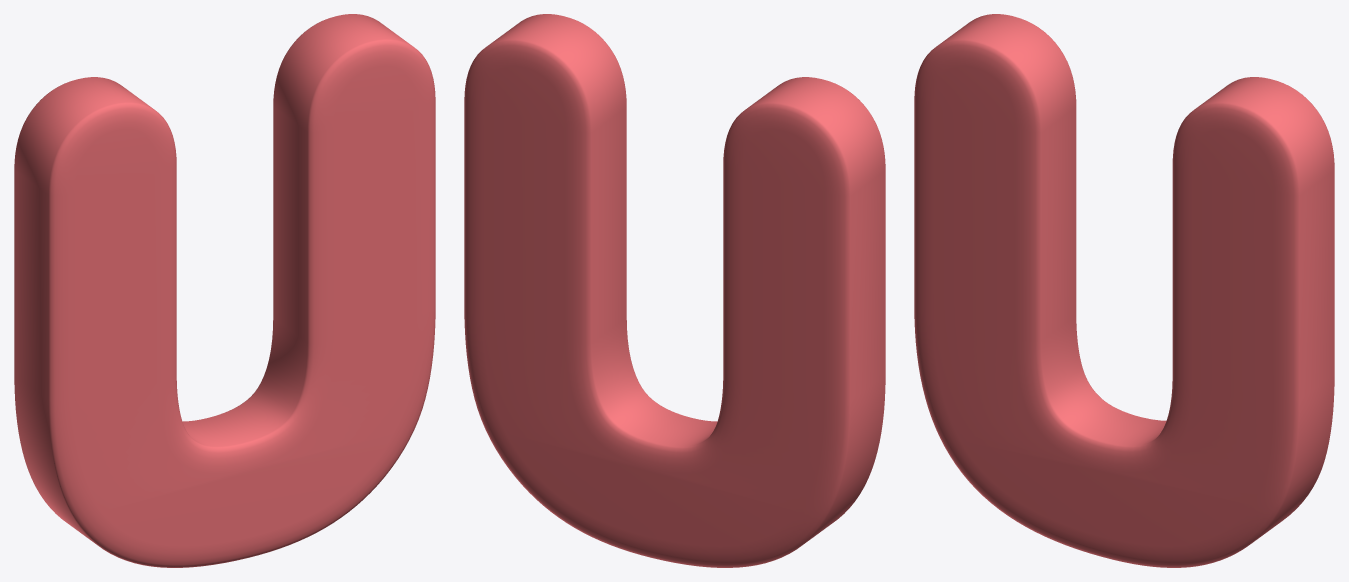
Rendered from RA_Letter_U.fbx.
3 renders of one model, left to right at view 1: azimuth 30°, elevation 25°; view 2: azimuth 150°, elevation 25°; view 3: azimuth 330°, elevation 25°, orthographic.
Parts seen in each view (by area): view 1: RA_Letter_U; view 2: RA_Letter_U; view 3: RA_Letter_U.
Boxes of the visible parts, left/top/right/bottom form: RA_Letter_U: left=14, top=14, right=435, bottom=567; RA_Letter_U: left=464, top=14, right=885, bottom=567; RA_Letter_U: left=914, top=14, right=1334, bottom=567.
Bounding box in the file's own units: 150 × 180 × 28.
